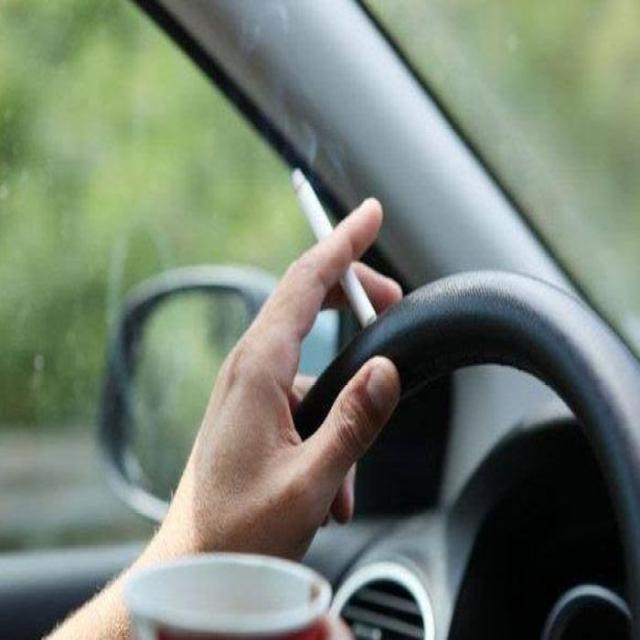rokok: (288, 165, 379, 332)
